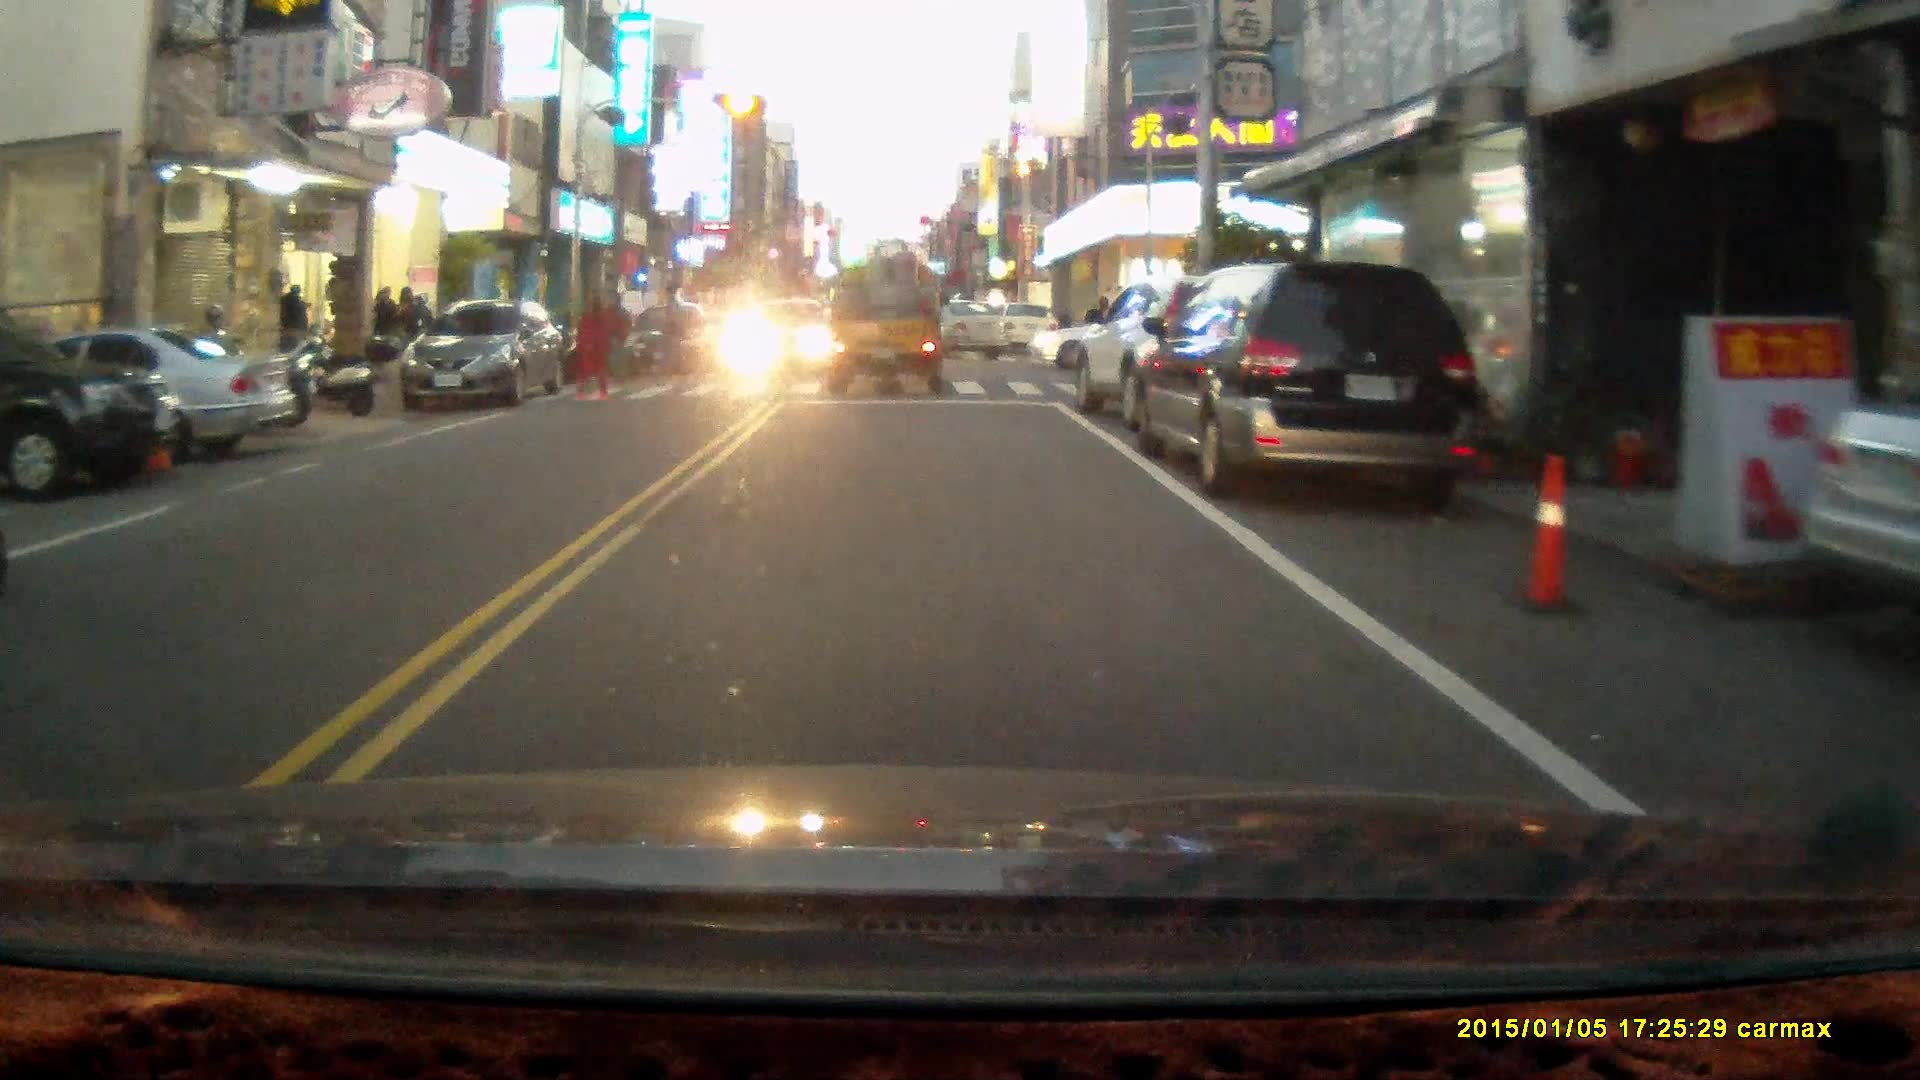pedestrian: (566, 283, 615, 397), (653, 279, 693, 381), (276, 280, 311, 371)
vehicle: (1126, 257, 1485, 494), (1, 327, 310, 469), (1069, 277, 1322, 432), (1, 309, 186, 505), (1798, 385, 1920, 585), (819, 234, 956, 392), (401, 299, 569, 410), (893, 300, 1014, 364), (722, 291, 826, 365), (623, 305, 719, 375)
